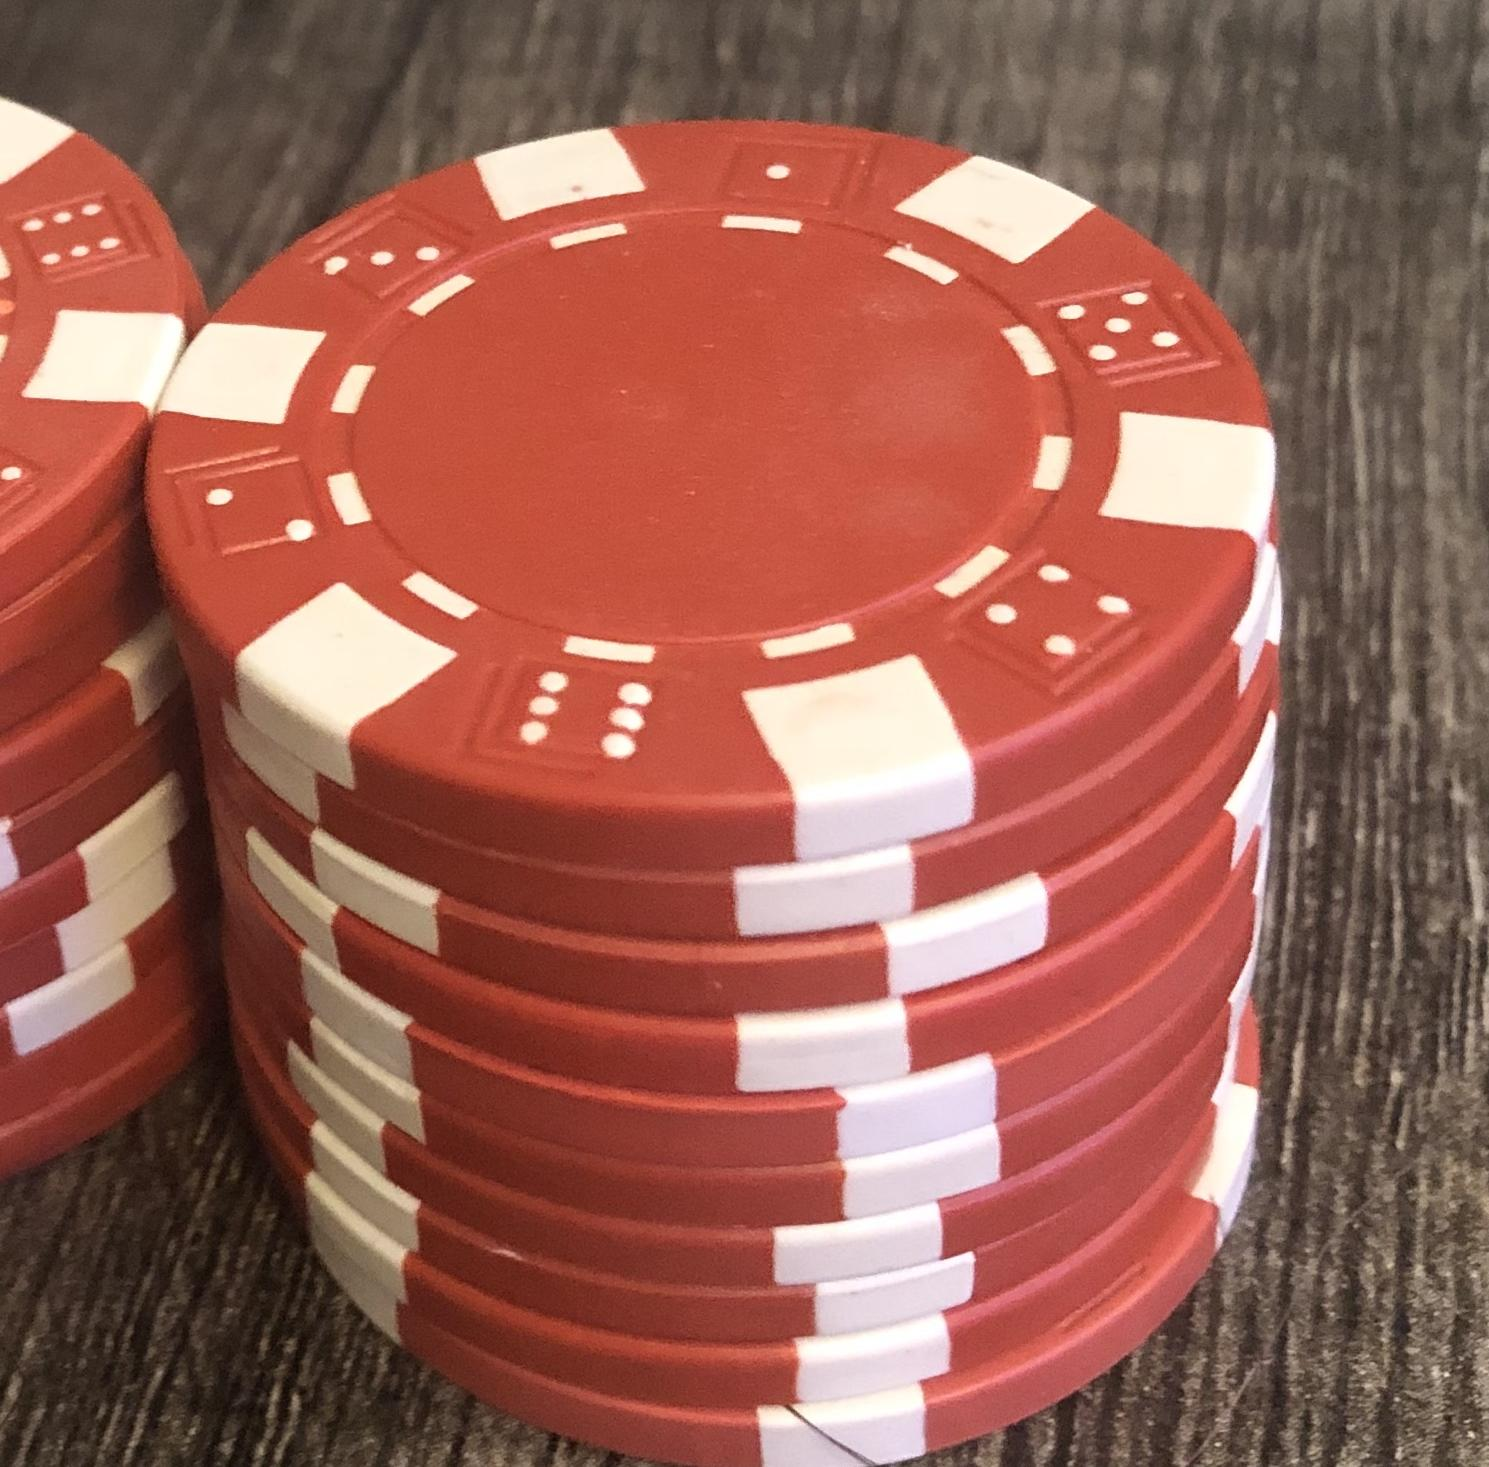Chip: (1, 1, 1489, 1467)
